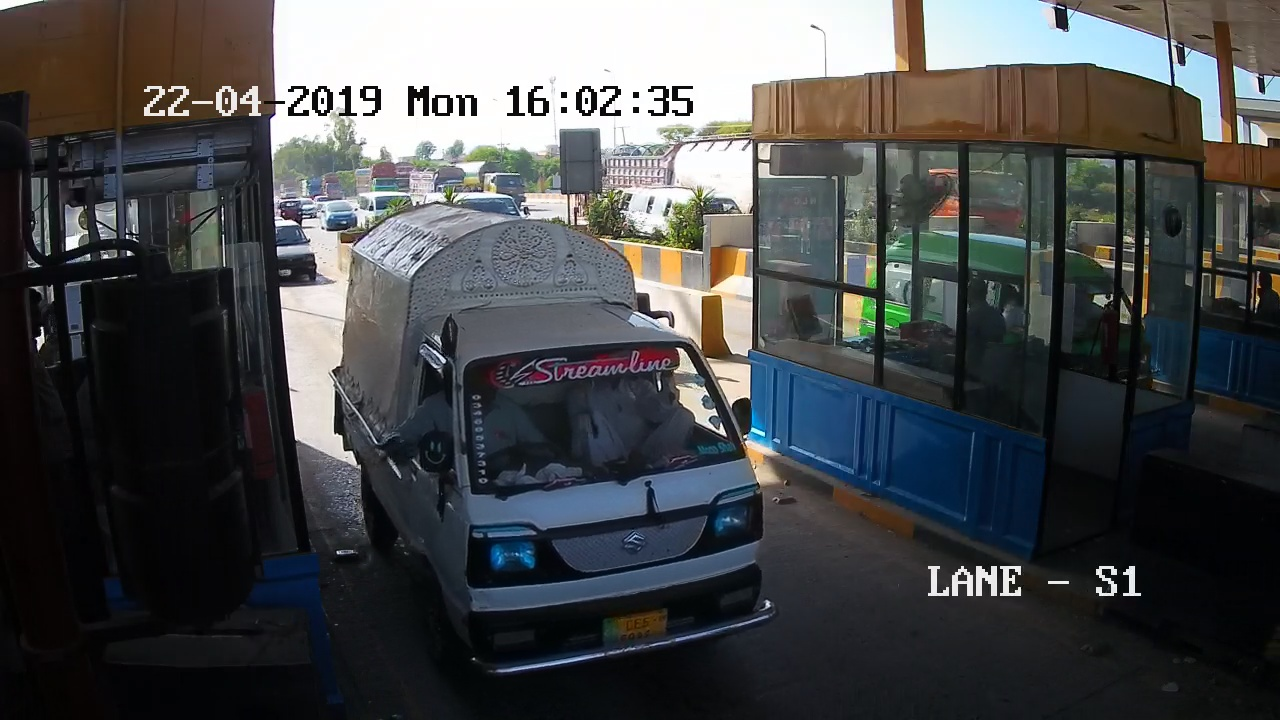Number Plate (Car): (601, 606, 671, 648)
